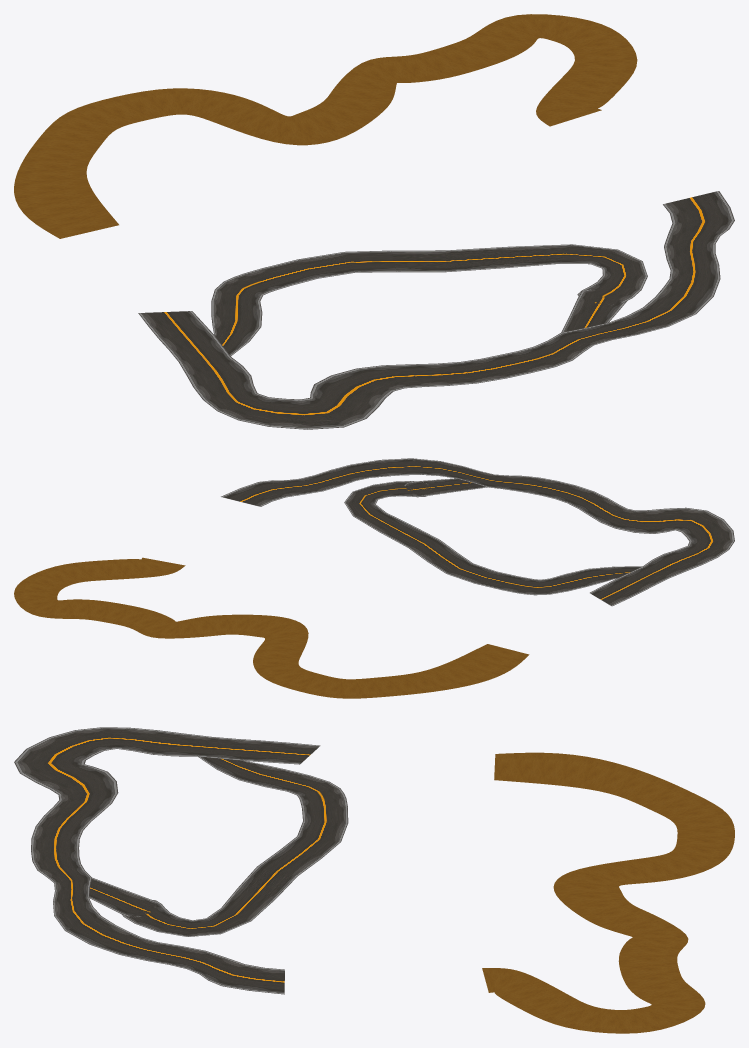
The model's file is dogtalk track.obj.
3 views of the same model, one above another, from view 1: azimuth 30°, elevation 25°; view 2: azimuth 150°, elevation 25°; view 3: azimuth 270°, elevation 25° (orthographic). The views are drawn at different scales.
Visible parts, largest first — view 1: City_road, Farm_road; view 2: City_road, Farm_road; view 3: City_road, Farm_road.
Part boxes in pixels (bbox=[...]): City_road: bbox=[138, 191, 734, 429]; Farm_road: bbox=[14, 14, 637, 238]; City_road: bbox=[221, 458, 734, 606]; Farm_road: bbox=[14, 557, 529, 698]; City_road: bbox=[14, 727, 348, 994]; Farm_road: bbox=[482, 752, 734, 1033].
Bounding box in the file's own units: 44626 × 91.29 × 44447.
